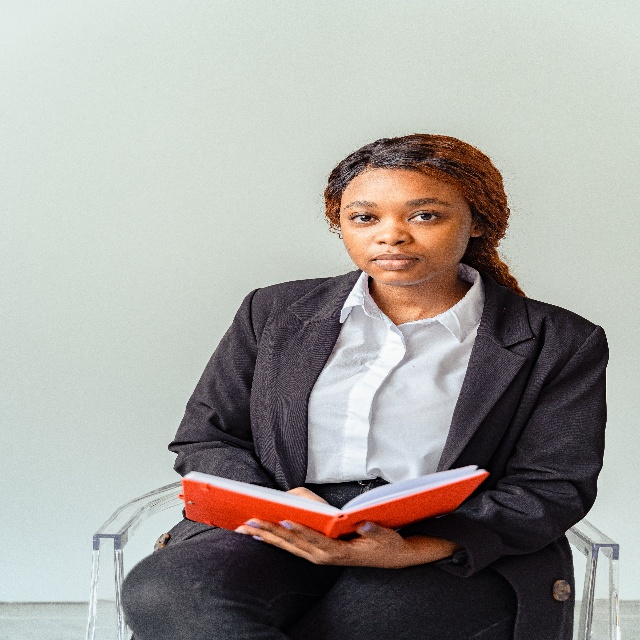Sin_guantes: (234, 517, 405, 568)
